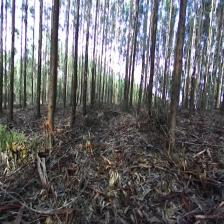trunk: (166, 16, 186, 144), (43, 12, 59, 147), (146, 12, 157, 113), (71, 19, 80, 125), (8, 33, 15, 120), (36, 30, 42, 116), (82, 43, 88, 116), (129, 48, 136, 106), (22, 54, 26, 107)
